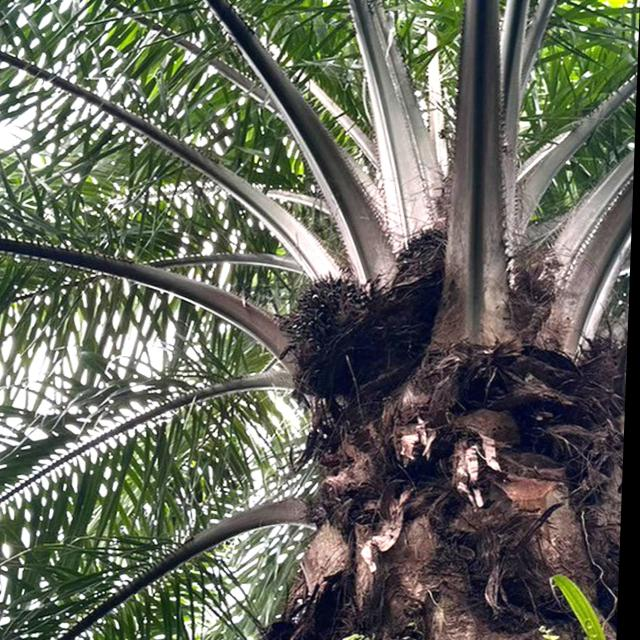unripe: (280, 270, 384, 368), (389, 220, 454, 316)
